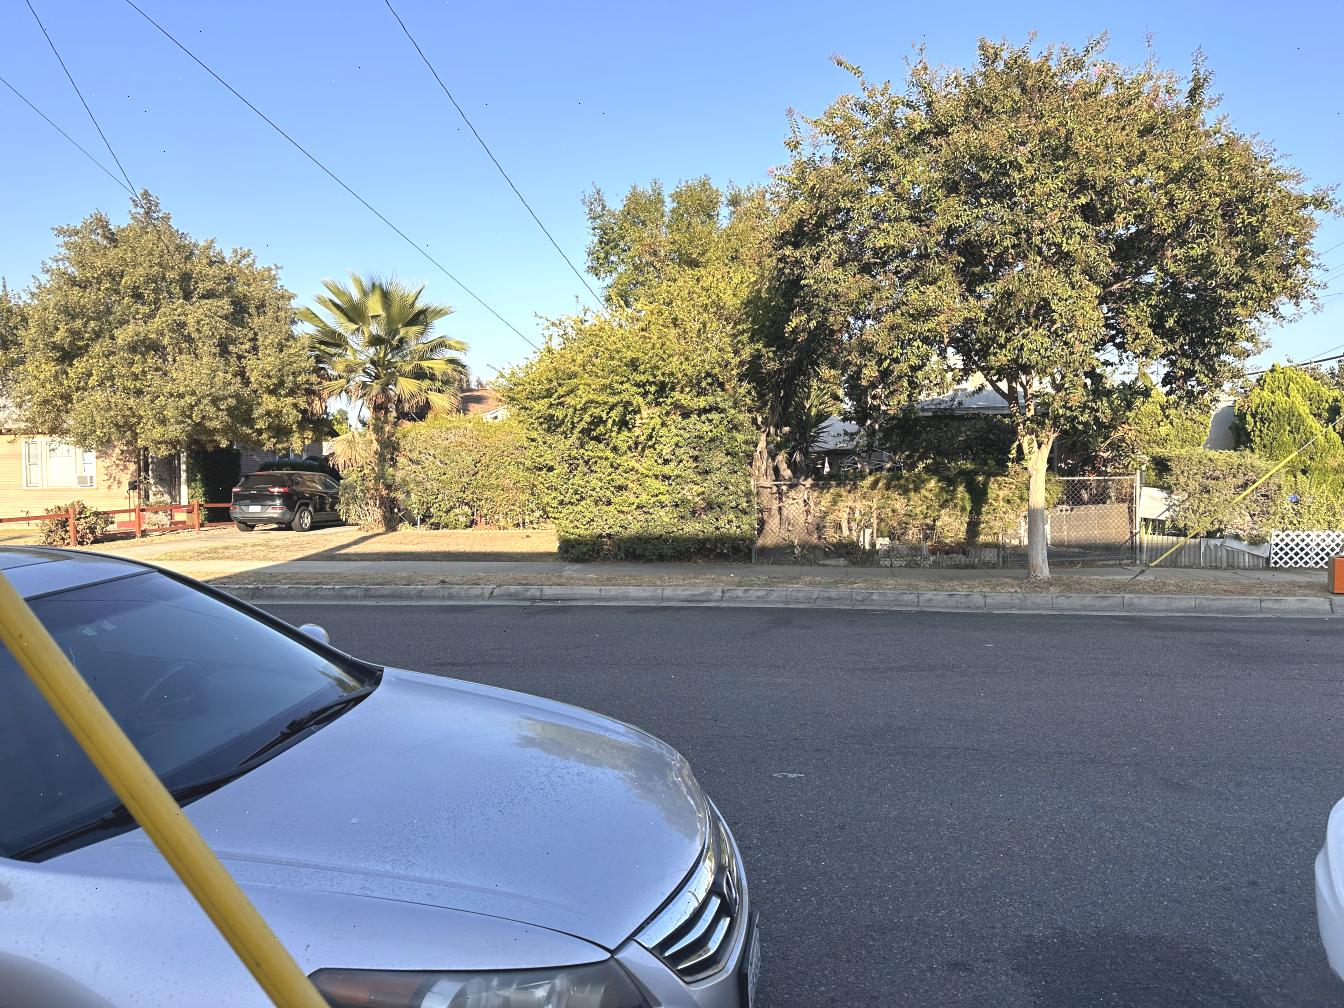curbs-laRr: (285, 577, 1338, 627)
